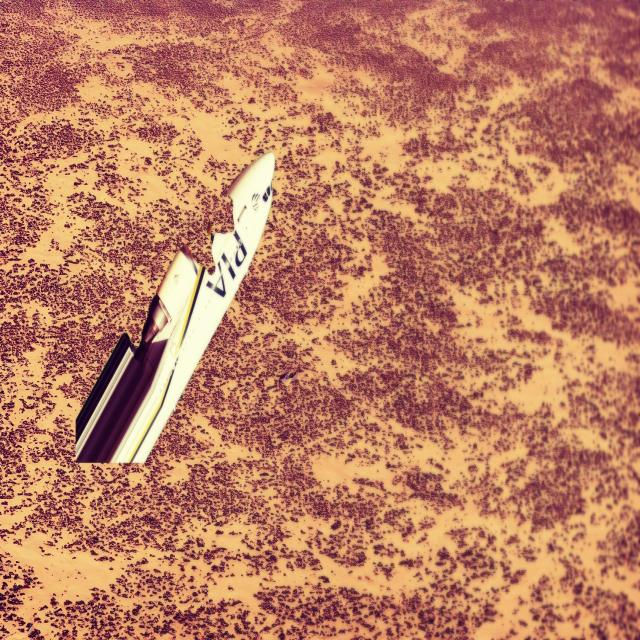airplane: (74, 150, 276, 466)
